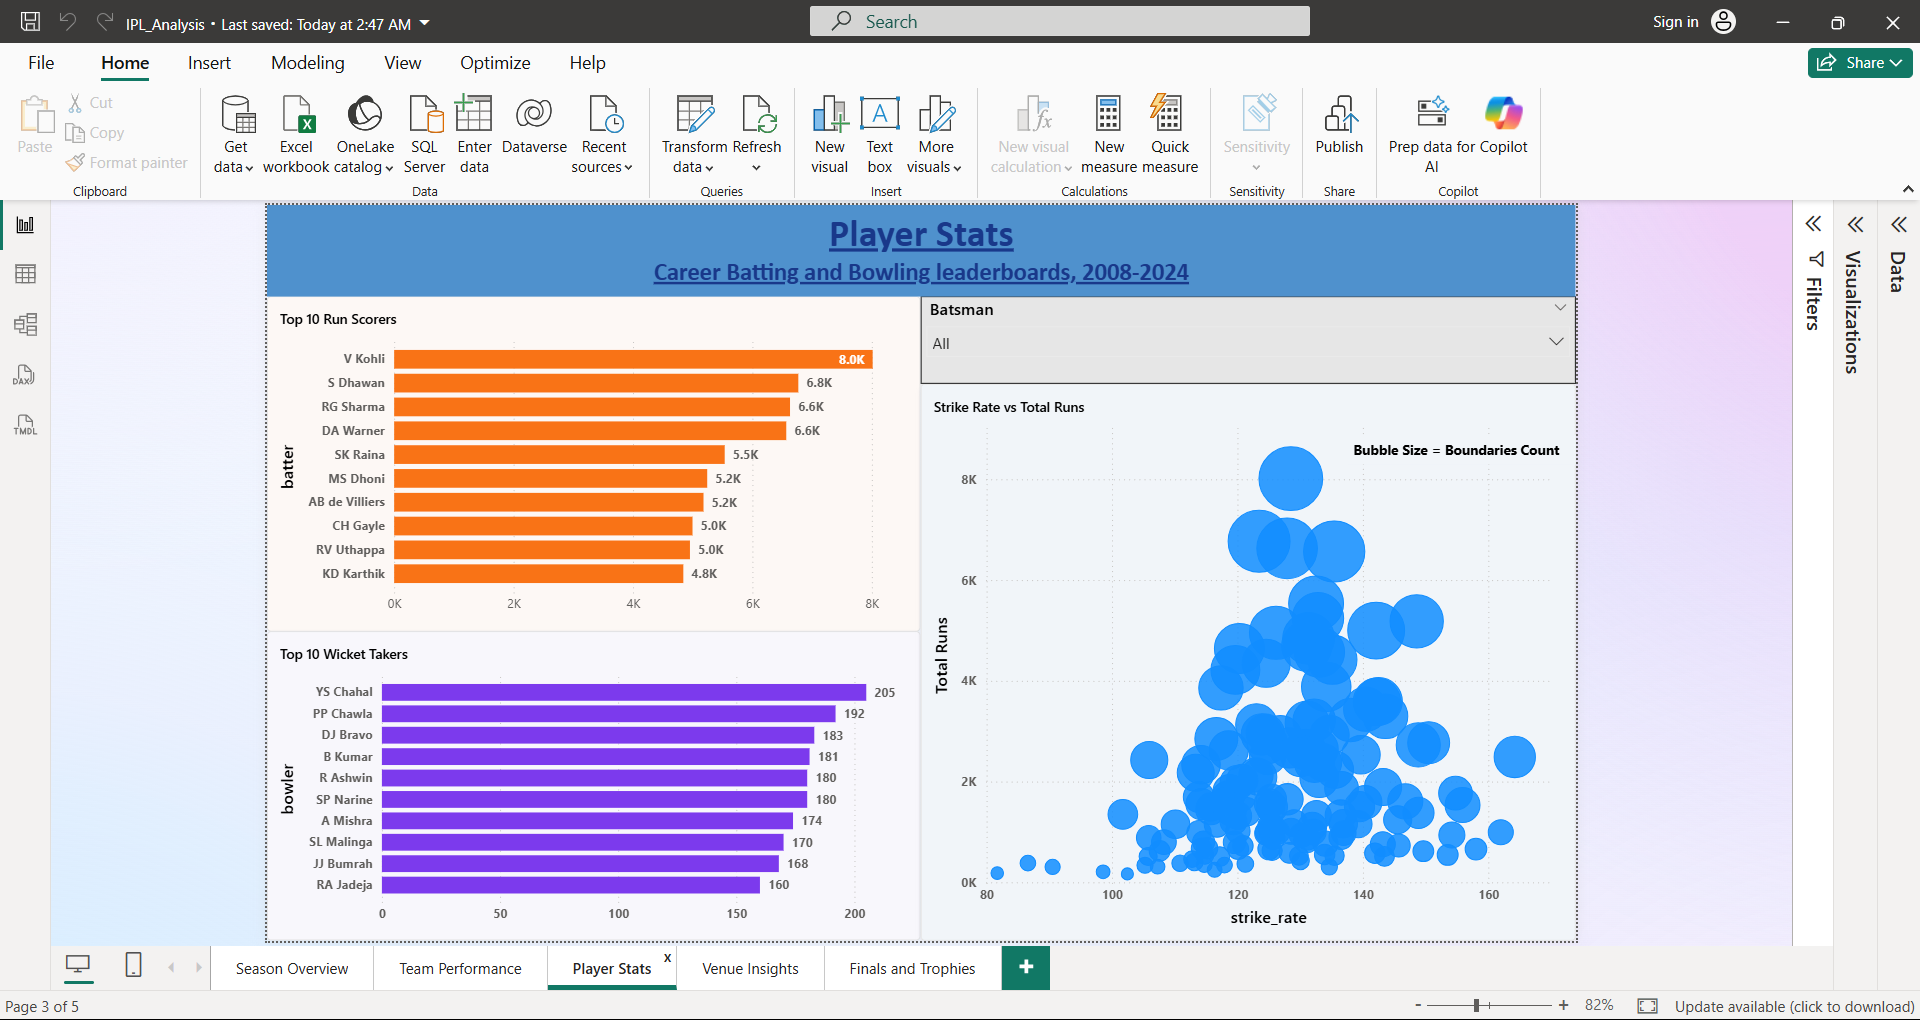

This screenshot's page, from the dashboard's own definition file:
{"tool":"powerbi","page":{"name":"Player Stats","canvas":[1280,720],"ordinal":2},"visuals":[{"type":"clusteredBarChart","title":"Top 10 Run Scorers","fields":{"Category":["batter_summary.batter"],"Y":["Sum(batter_summary.total_runs)"]},"box":[0,89.5,639.5,327.6],"z":0},{"type":"clusteredBarChart","title":"Top 10 Wicket Takers","fields":{"Category":["bowler_summary.bowler"],"Y":["Sum(bowler_summary.total_wickets)"]},"box":[0,417.1,639.5,302.6],"z":1000},{"type":"scatterChart","title":"Strike Rate vs Total Runs","fields":{"X":["batter_summary.strike_rate"],"Y":["batter_summary.total_runs"],"Size":["Sum(batter_summary.Boundaries)"]},"box":[639.5,175,640.8,544.7],"z":2000},{"type":"slicer","fields":{"Values":["batter_summary.batter"]},"box":[639.5,89.5,640.8,85.5],"z":3000},{"type":"textbox","box":[1057.9,225,222.4,28.9],"z":4000},{"type":"textbox","box":[0,0,1280.3,89.5],"z":5000}]}

Visuals, with their boxes on the page's 1280x720 design canvas (x1, y1, x2, y2). These are canvas units, not pixel positions in the 1920x1020 screenshot, which may show the page scaled, cropped or inside an application window:
"Top 10 Run Scorers" clusteredBarChart: box(0, 90, 640, 417)
"Top 10 Wicket Takers" clusteredBarChart: box(0, 417, 640, 720)
"Strike Rate vs Total Runs" scatterChart: box(640, 175, 1280, 720)
slicer - batter_summary.batter: box(640, 90, 1280, 175)
textbox: box(1058, 225, 1280, 254)
textbox: box(0, 0, 1280, 90)
